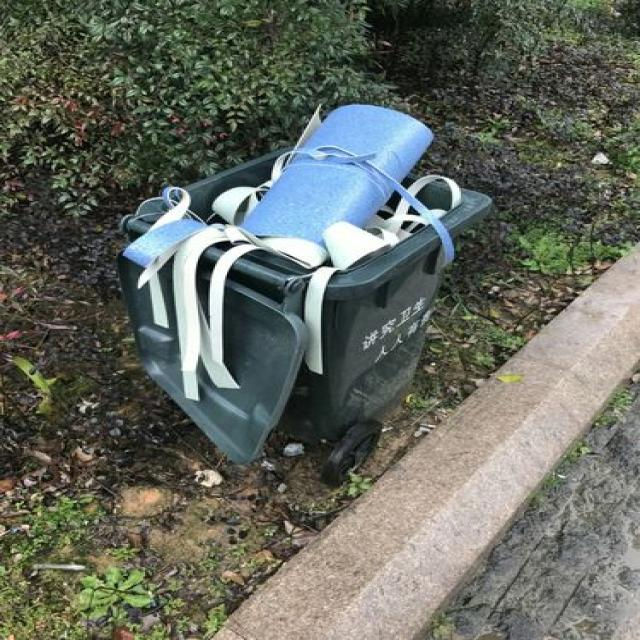overflow: (118, 102, 493, 464)
